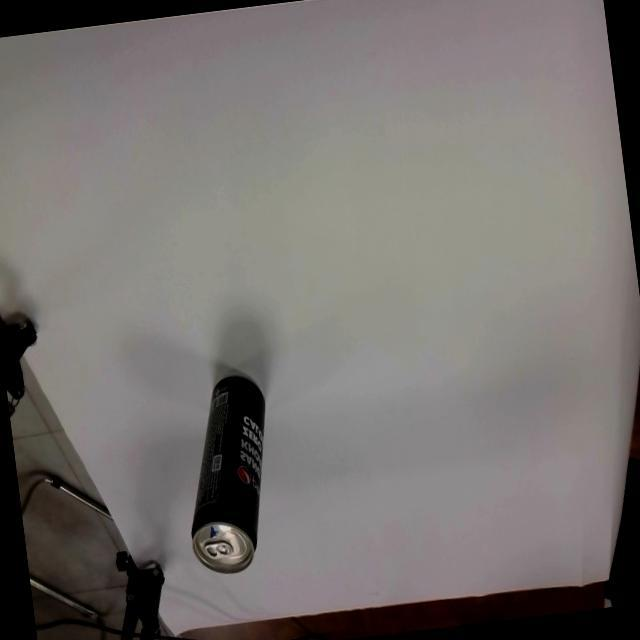debris: (172, 372, 286, 580)
